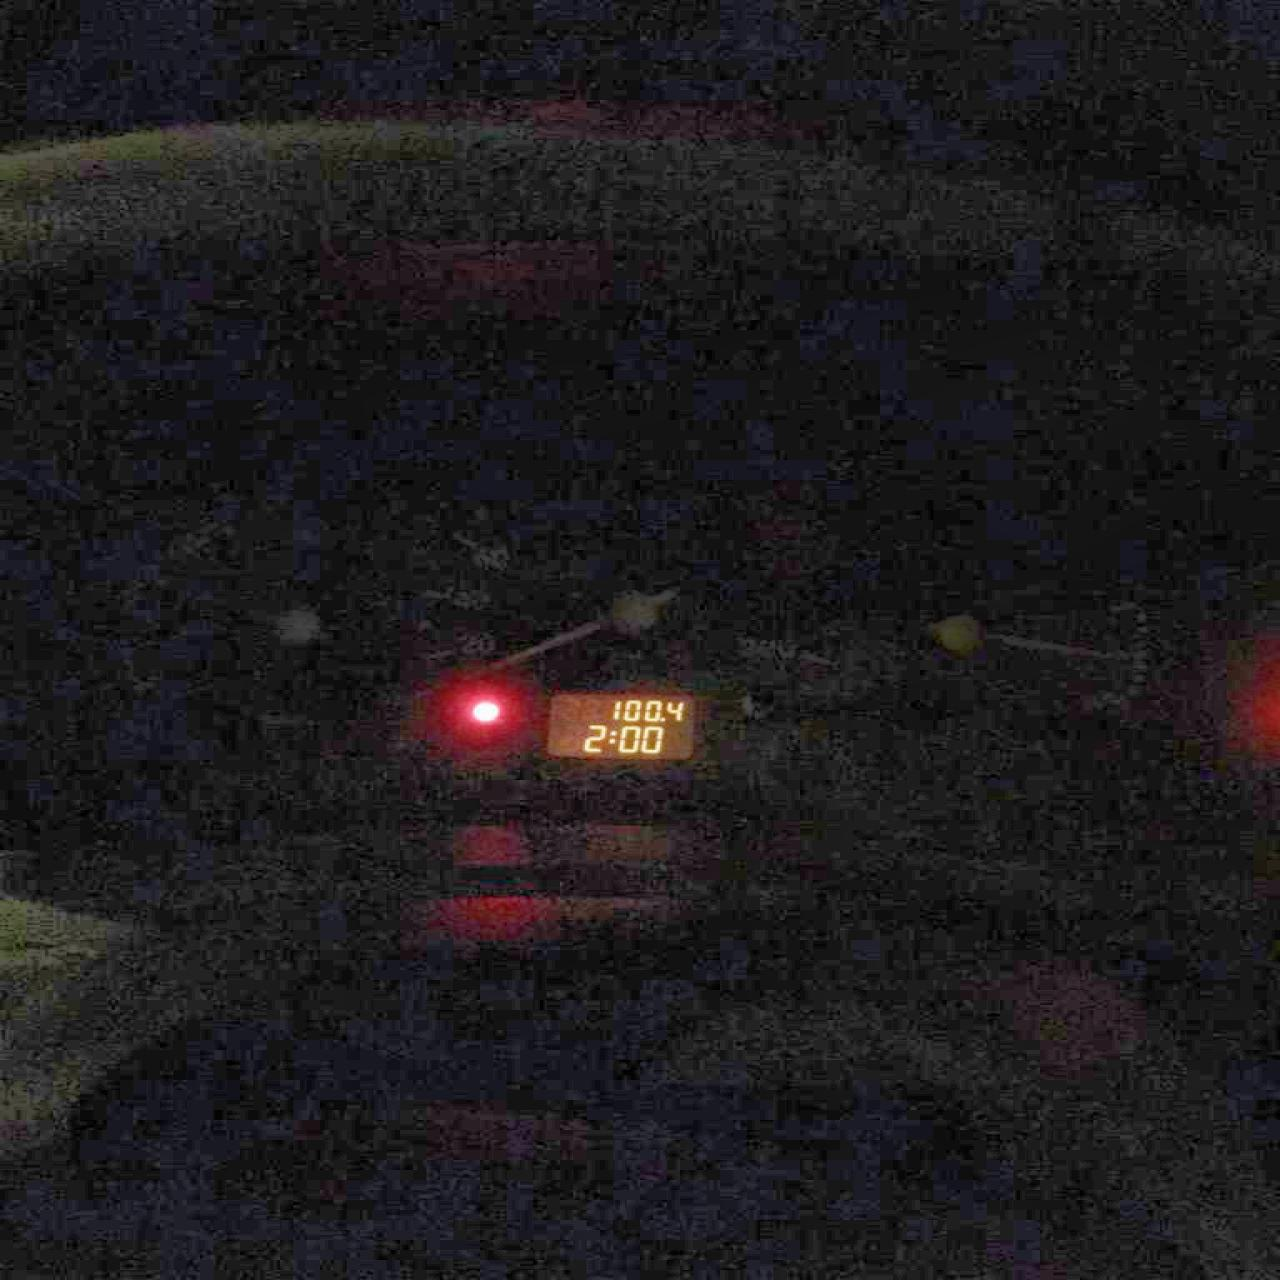-: (659, 715, 668, 723)
0: (617, 723, 639, 753), (641, 726, 663, 754), (641, 697, 660, 722), (621, 699, 640, 721)
1: (612, 697, 620, 720)
2: (580, 722, 605, 753)
4: (665, 700, 683, 720)
X: (606, 727, 617, 744)
odometer: (538, 688, 699, 763)
